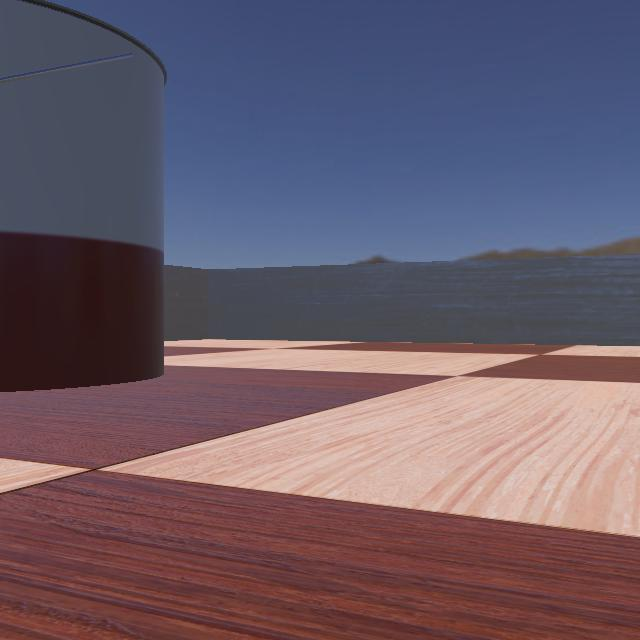paint-bucket: (0, 1, 196, 413)
